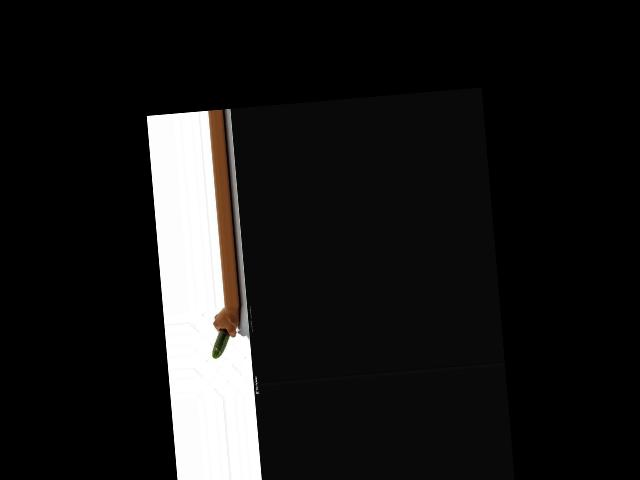cucumber: (210, 327, 231, 358)
